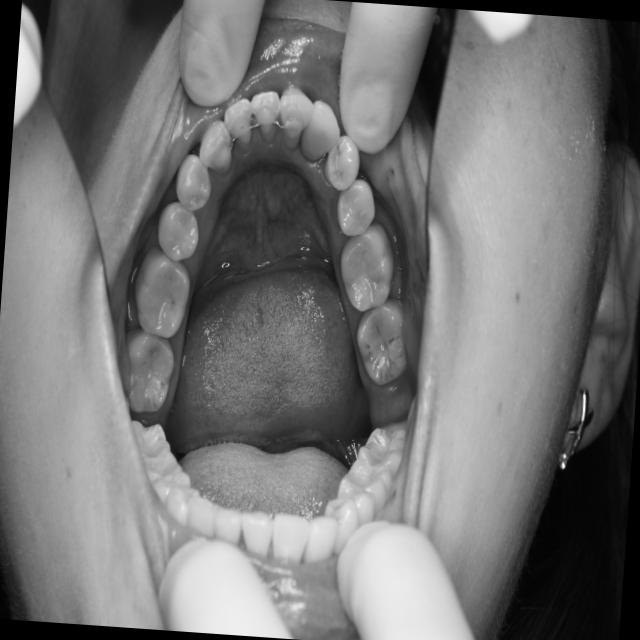tooth: (122, 237, 198, 345), (331, 214, 402, 319), (345, 292, 416, 392), (113, 319, 180, 421), (147, 194, 205, 267), (329, 168, 380, 243), (298, 94, 345, 170), (167, 147, 217, 217), (317, 125, 363, 194), (274, 82, 317, 153), (193, 110, 237, 176), (246, 85, 283, 147), (219, 94, 256, 156)
